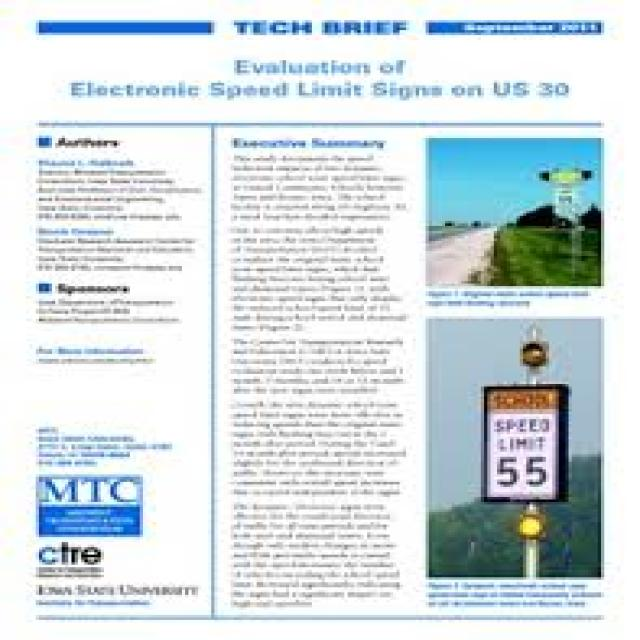speedLimit55: (486, 403, 560, 498)
